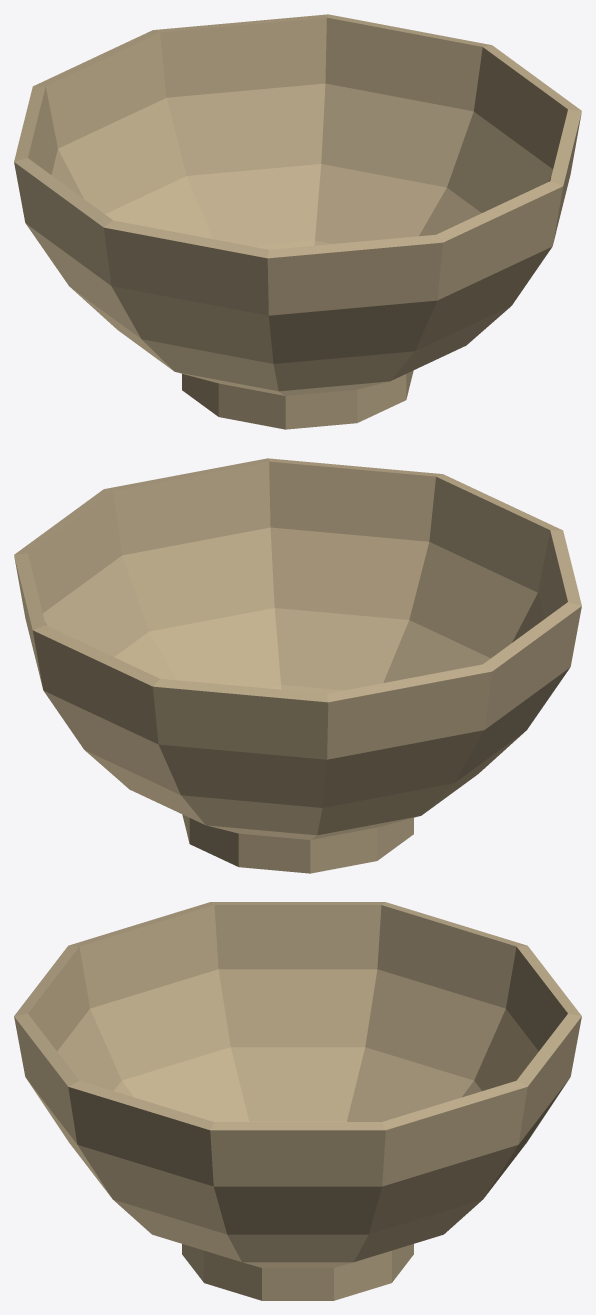
Rendered from Bowl_2 Asia.fbx.
3 renders of one model, top to bottom at view 1: azimuth 30°, elevation 25°; view 2: azimuth 150°, elevation 25°; view 3: azimuth 270°, elevation 25°, orthographic. The views are drawn at different scales.
Visible parts, largest first — view 1: Bowl_2; view 2: Bowl_2; view 3: Bowl_2.
Boxes of the visible parts, x1,y1,x2,y2 form: Bowl_2: (14, 14, 581, 429); Bowl_2: (14, 458, 581, 873); Bowl_2: (14, 902, 581, 1300).
Size of the model in its own units: 0.104 by 0.0511 by 0.1094.
